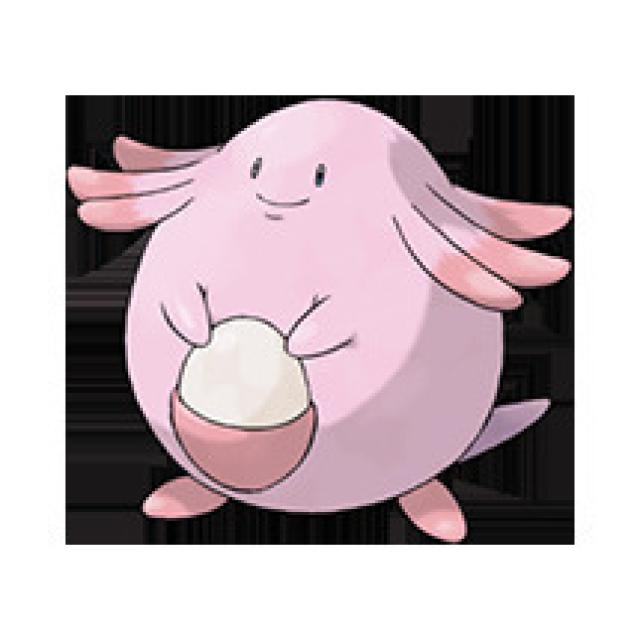Chansey: (66, 97, 573, 543)
